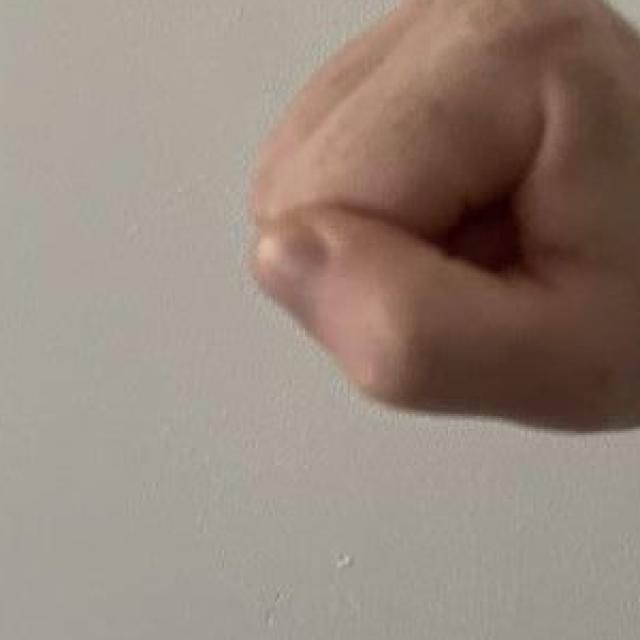rock: (224, 0, 640, 452)
